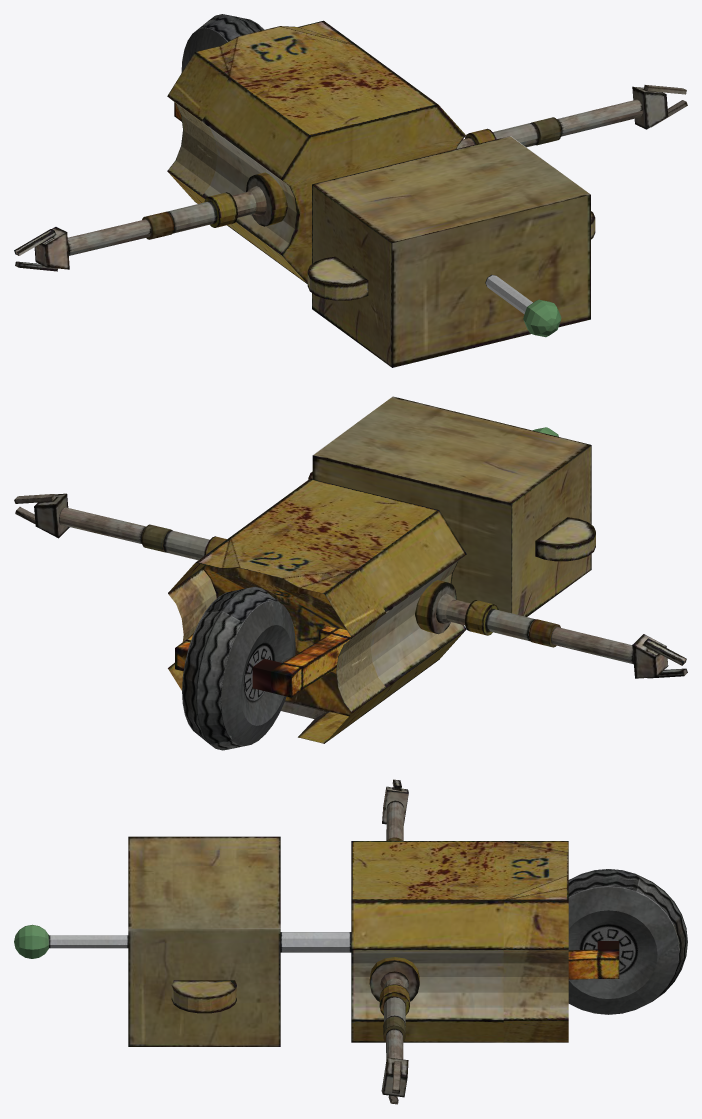
The model's file is RobienSimpleLOP.obj.
3 renders of one model, top to bottom at view 1: azimuth 30°, elevation 25°; view 2: azimuth 150°, elevation 25°; view 3: azimuth 270°, elevation 25°, orthographic. The views are drawn at different scales.
Parts seen in each view (by area): view 1: Robien_robien; view 2: Robien_robien; view 3: Robien_robien.
Part boxes in pixels (x1,y1,x2,y2): Robien_robien: [14, 14, 687, 367]; Robien_robien: [14, 396, 687, 750]; Robien_robien: [14, 779, 687, 1104].
Size of the model in its own units: 6.73 by 1.56 by 6.2.
Materials: 1 (1 with a texture image).
